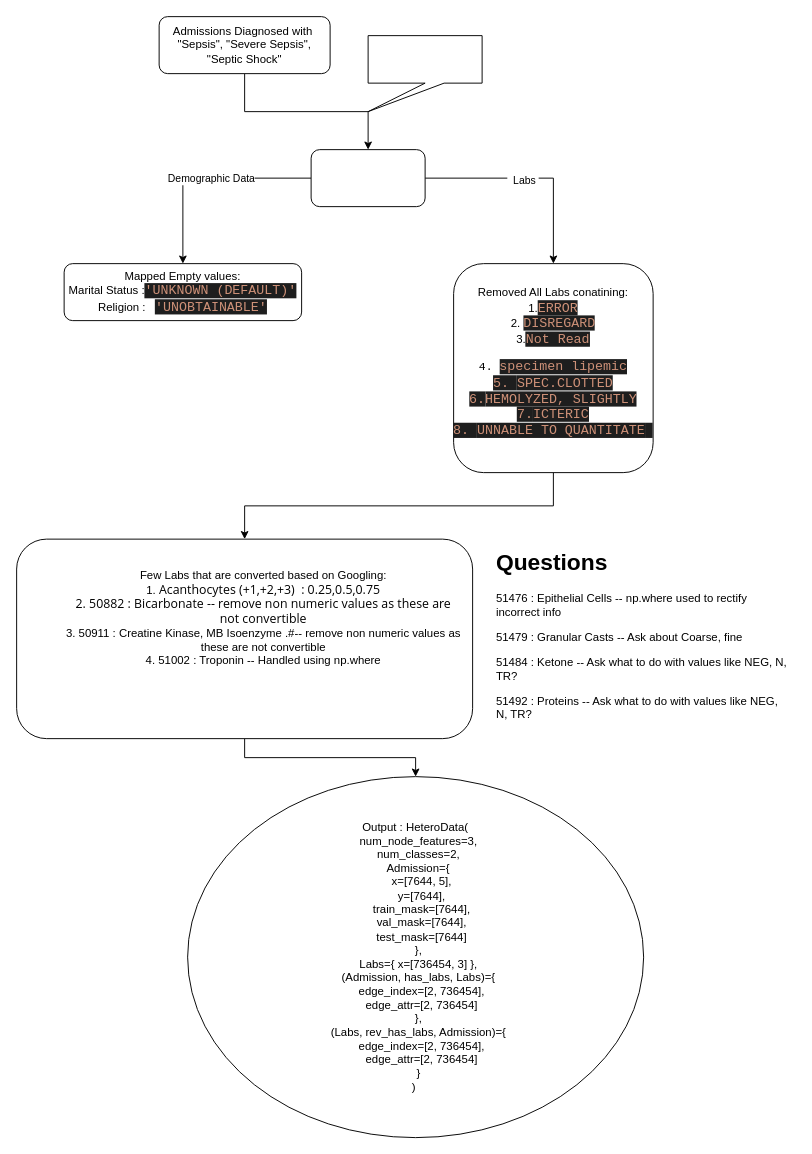
Image size: 812x1154. Some labels were removed from this diagram. Here are the shapes that lost their labels. From the top down, the box of each, then its label:
(367, 35, 482, 112): Removed all Labs with NaN values
(310, 149, 425, 207): Considered only the Admissions between the ages of 18-100 years (exclluding)
